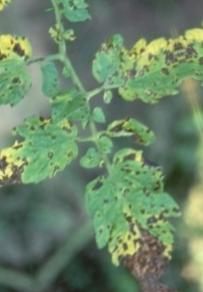Tomato Septoria leaf spot: (66, 141, 200, 292), (79, 14, 193, 123), (0, 105, 99, 191), (0, 25, 54, 118), (103, 103, 164, 157)
